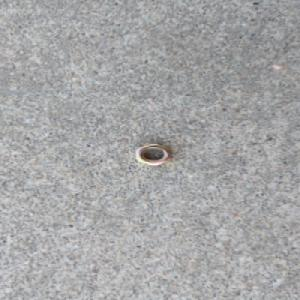Nut: (134, 142, 174, 167)
